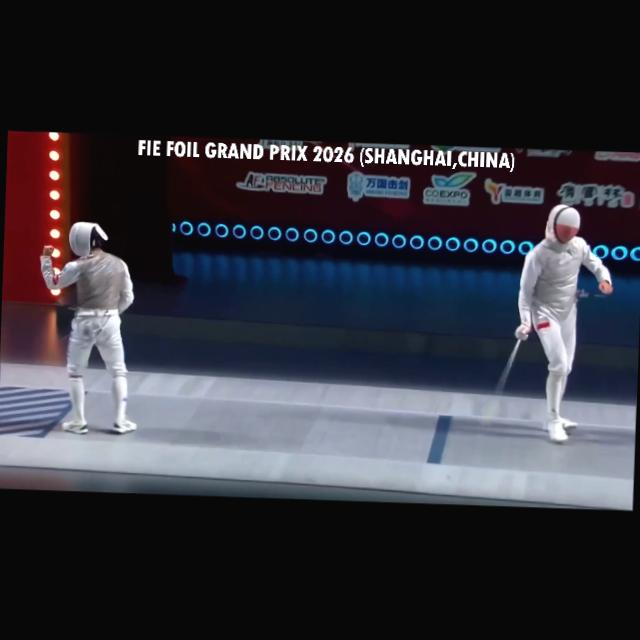blade: (474, 320, 532, 436)
